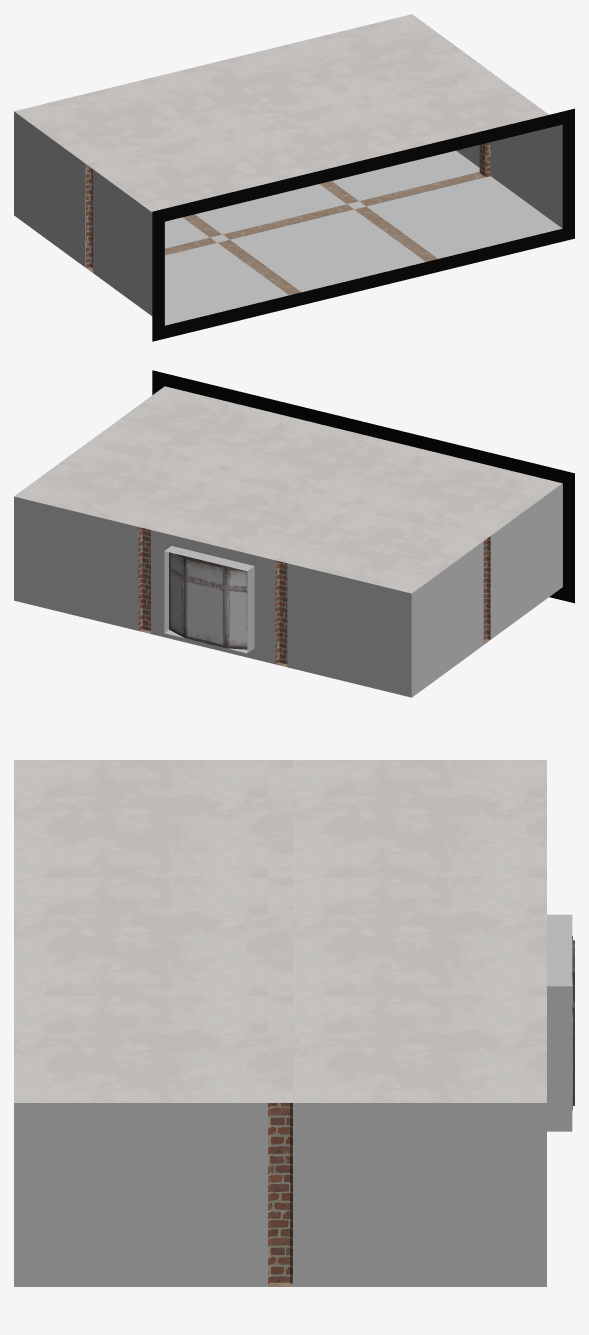
File: Firstfloor_backroom.fbx
3 renders of one model, top to bottom at view 1: azimuth 30°, elevation 25°; view 2: azimuth 150°, elevation 25°; view 3: azimuth 270°, elevation 25°, orthographic. The views are drawn at different scales.
Parts seen in each view (by area): view 1: Ceiling_mainfloor.002, Ceiling_mainfloor.003, Floor_mainfloor.016, Floor_mainfloor.017, Ceiling_mainfloor.001, Wall_mainfloor.004, Ceiling_mainfloor.016, Ceiling_mainfloor.015, Ceiling_mainfloor.017, Wall_mainfloor.032, Floor_mainfloor.015, Wall_mainfloor.031 (+23 smaller); view 2: Wall_mainfloor.001, Wall_Window_Mainroom.002, Wall_mainfloor.003, Ceiling_mainfloor.016, Ceiling_mainfloor.002, Ceiling_mainfloor.003, Ceiling_mainfloor.015, Ceiling_mainfloor.017, Ceiling_mainfloor.001, Wall_mainfloor.004, Wall_mainfloor.032, Transition_Floor.040 (+13 smaller); view 3: Wall_mainfloor.002, Wall_mainfloor.031, Ceiling_mainfloor.002, Ceiling_mainfloor.003, Ceiling_mainfloor.015, Ceiling_mainfloor.001, Ceiling_mainfloor.016, Ceiling_mainfloor.017, Wall_Window_Mainroom.002, Cube.175, Cube.176, Cube.150 (+5 smaller).
Boxes of the visible parts, left/top/right/bottom form: Ceiling_mainfloor.002: left=151, top=47, right=346, bottom=130; Ceiling_mainfloor.003: left=288, top=14, right=482, bottom=96; Floor_mainfloor.016: left=230, top=209, right=425, bottom=292; Floor_mainfloor.017: left=366, top=176, right=561, bottom=258; Ceiling_mainfloor.001: left=14, top=81, right=209, bottom=163; Wall_mainfloor.004: left=14, top=111, right=85, bottom=267; Ceiling_mainfloor.016: left=230, top=105, right=411, bottom=178; Ceiling_mainfloor.015: left=93, top=139, right=275, bottom=211; Ceiling_mainfloor.017: left=367, top=72, right=548, bottom=144; Wall_mainfloor.032: left=93, top=169, right=164, bottom=325; Floor_mainfloor.015: left=165, top=243, right=288, bottom=325; Wall_mainfloor.031: left=490, top=124, right=562, bottom=228; Wall_mainfloor.001: left=287, top=563, right=411, bottom=697; Wall_Window_Mainroom.002: left=151, top=530, right=275, bottom=664; Wall_mainfloor.003: left=14, top=496, right=138, bottom=630; Ceiling_mainfloor.016: left=230, top=419, right=425, bottom=502; Ceiling_mainfloor.002: left=151, top=477, right=346, bottom=559; Ceiling_mainfloor.003: left=14, top=444, right=209, bottom=526; Ceiling_mainfloor.015: left=367, top=453, right=561, bottom=535; Ceiling_mainfloor.017: left=93, top=386, right=288, bottom=468; Ceiling_mainfloor.001: left=288, top=511, right=483, bottom=593; Wall_mainfloor.004: left=411, top=541, right=483, bottom=697; Wall_mainfloor.032: left=490, top=484, right=562, bottom=639; Transition_Floor.040: left=301, top=406, right=425, bottom=449; Wall_mainfloor.002: left=293, top=1103, right=546, bottom=1286; Wall_mainfloor.031: left=14, top=1103, right=267, bottom=1286; Ceiling_mainfloor.002: left=293, top=877, right=546, bottom=984; Ceiling_mainfloor.003: left=293, top=995, right=546, bottom=1102; Ceiling_mainfloor.015: left=14, top=760, right=267, bottom=867; Ceiling_mainfloor.001: left=293, top=760, right=546, bottom=866; Ceiling_mainfloor.016: left=14, top=878, right=267, bottom=984; Ceiling_mainfloor.017: left=14, top=996, right=267, bottom=1102; Wall_Window_Mainroom.002: left=547, top=914, right=574, bottom=1131; Cube.175: left=268, top=1103, right=292, bottom=1283; Cube.176: left=267, top=878, right=293, bottom=985; Cube.150: left=267, top=996, right=293, bottom=1102.
Bounding box in the file's own units: 1700 × 500 × 1106.
